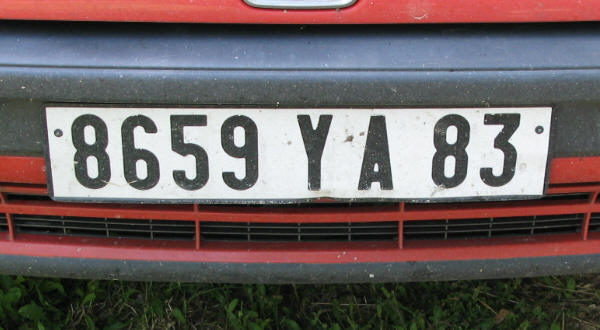license_plate: (45, 104, 554, 201)
